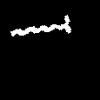half_double_crochet: (11, 15, 70, 35)
